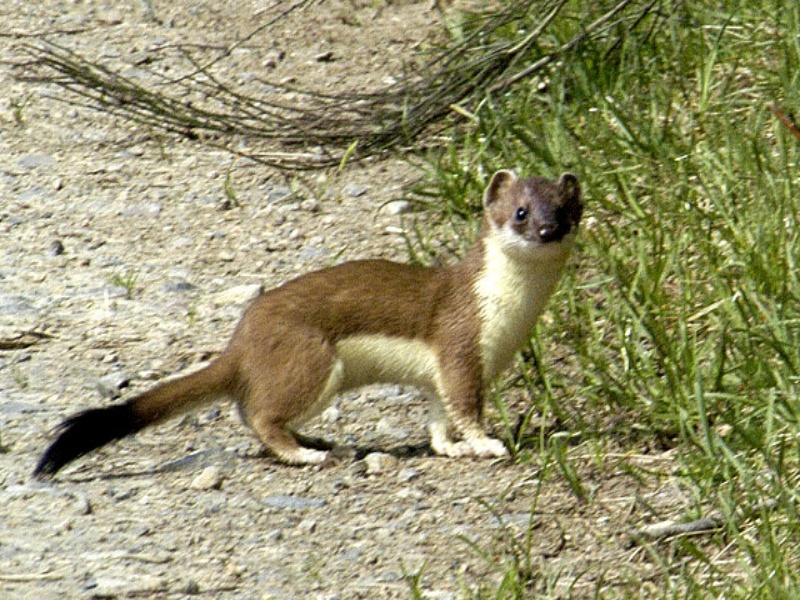minkish: (25, 166, 587, 489)
